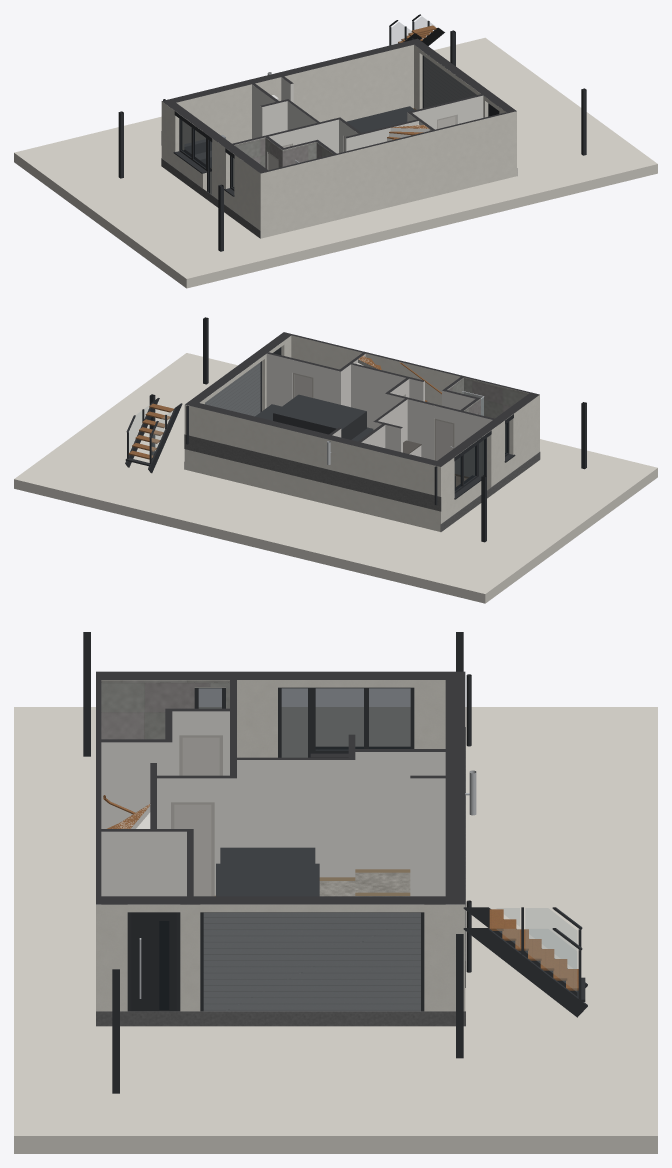
The model's file is dum_b_1pp.glb.
3 views of the same model, one above another, from view 1: azimuth 30°, elevation 25°; view 2: azimuth 150°, elevation 25°; view 3: azimuth 270°, elevation 25° (orthographic). The views are drawn at different scales.
Visible parts, largest first — view 1: podstava, B_ext_omitka, B_int_omitka_int, rez_sten, B_ext_antracit, pevne_obklad, B_ext_vrata, B_sklo_sklo, auto_garaz, B_ext_sokl, B_ext_sklo_zabradli; view 2: podstava, B_ext_omitka, B_int_omitka_int, rez_sten, B_ext_sokl, B_ext_antracit, auto_garaz, pevne_obklad, B_ext_vrata, B_sklo_sklo, B_int_dvere, B_ext_drevo (+1 smaller); view 3: podstava, B_int_omitka_int, B_ext_vrata, B_ext_omitka, rez_sten, B_ext_antracit, B_sklo_sklo, B_ext_sokl, pevne_obklad, auto_garaz, B_ext_dvere, B_int_dvere (+4 smaller).
Boxes of the visible parts, x1,y1,x2,y2 form: podstava: (14,37,657,288); B_ext_omitka: (161,45,516,238); B_int_omitka_int: (234,77,483,169); rez_sten: (162,38,516,173); B_ext_antracit: (118,14,586,251); pevne_obklad: (234,138,332,168); B_ext_vrata: (424,56,476,107); B_sklo_sklo: (181,120,234,194); auto_garaz: (346,106,414,132); B_ext_sokl: (161,131,517,238); B_ext_sklo_zabradli: (391,16,435,44); podstava: (14,353,657,603); B_ext_omitka: (184,335,539,531); B_int_omitka_int: (266,353,492,476); rez_sten: (185,332,539,466); B_ext_sokl: (184,434,540,531); B_ext_antracit: (125,317,586,542); auto_garaz: (255,394,373,441); pevne_obklad: (447,378,528,418); B_ext_vrata: (205,362,260,416); B_sklo_sklo: (454,423,507,490); B_int_dvere: (295,374,452,460); B_ext_drevo: (128,403,173,459); podstava: (14,707,657,1153); B_int_omitka_int: (101,711,445,904); B_ext_vrata: (203,912,420,1011); B_ext_omitka: (96,680,465,1011); rez_sten: (96,671,465,904); B_ext_antracit: (83,632,587,1093); B_sklo_sklo: (159,688,410,1009); B_ext_sokl: (96,727,465,1026); pevne_obklad: (101,680,229,739); auto_garaz: (216,847,319,896); B_ext_dvere: (131,912,176,1011); B_int_dvere: (174,737,219,896).
Bounding box in the file's own units: 18.6 × 2.84 × 11.8.
34 materials, 8 textured.
